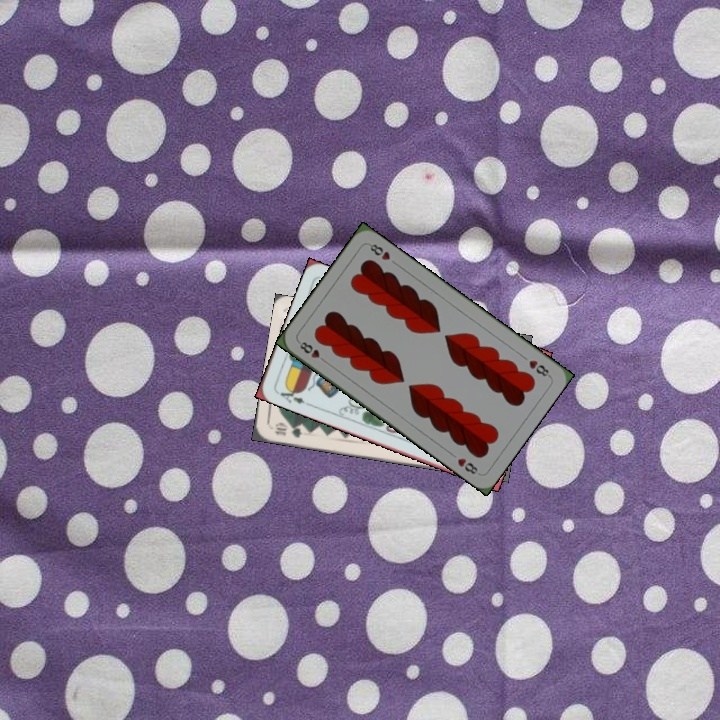EA: (273, 382, 312, 408)
G10: (271, 419, 305, 440)
H8: (295, 337, 330, 366), (525, 356, 553, 379)
